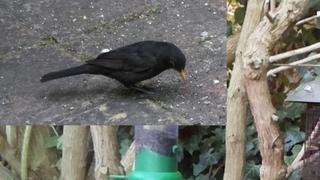blackbird: (40, 40, 187, 97)
